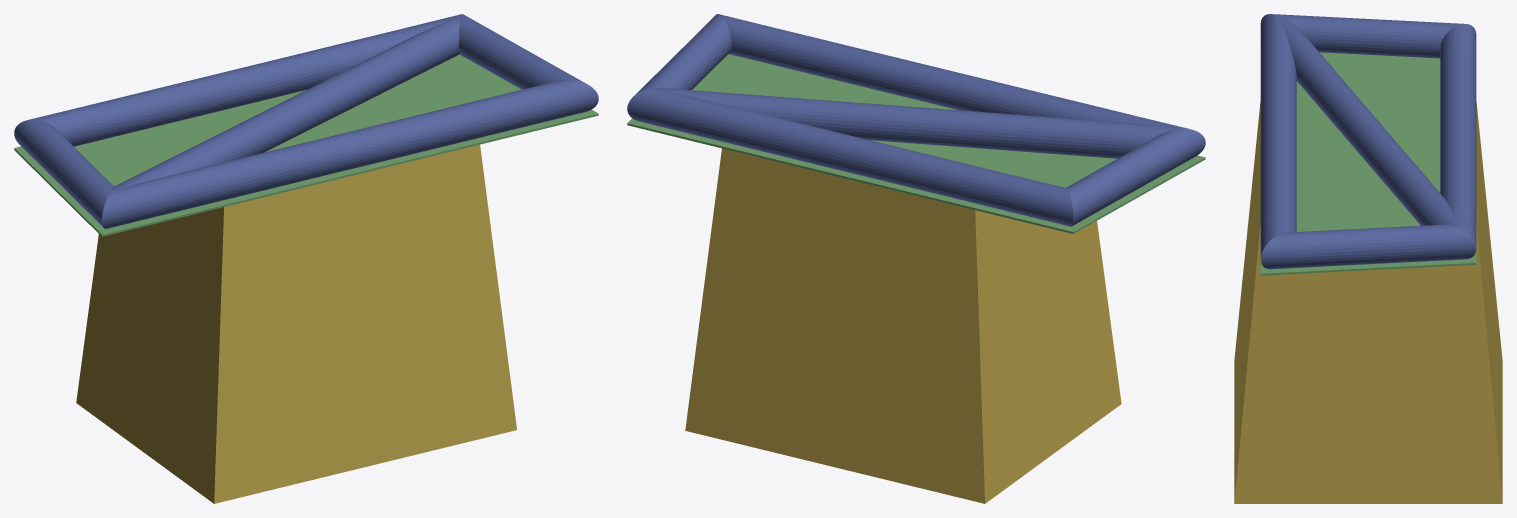
The model's file is 1775670834799_front_bulkhead_2_.glb.
3 renders of one model, left to right at view 1: azimuth 30°, elevation 25°; view 2: azimuth 150°, elevation 25°; view 3: azimuth 270°, elevation 25°, orthographic. The views are drawn at different scales.
Visible parts, largest first — view 1: empty_2; view 2: empty_2; view 3: empty_2.
Part boxes in pixels (x1,y1,x2,y2): empty_2: [14, 14, 598, 503]; empty_2: [627, 14, 1205, 503]; empty_2: [1234, 14, 1502, 503].
Bounding box in the file's own units: 388 × 235 × 187.
